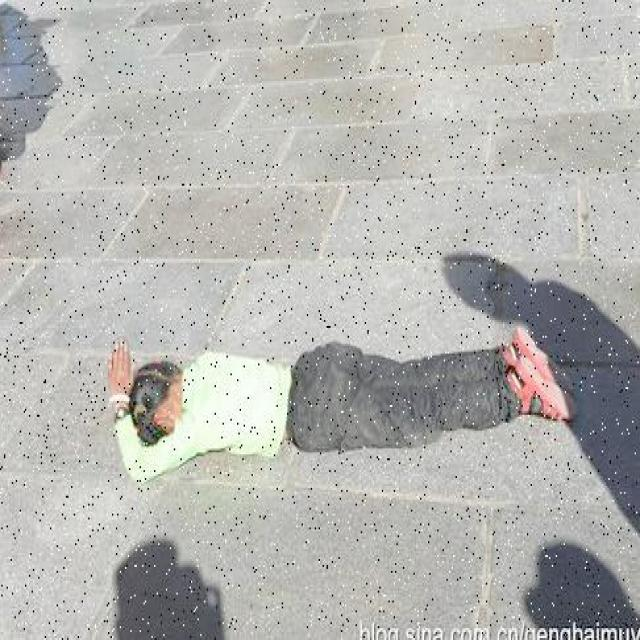fall: (106, 324, 572, 440)
